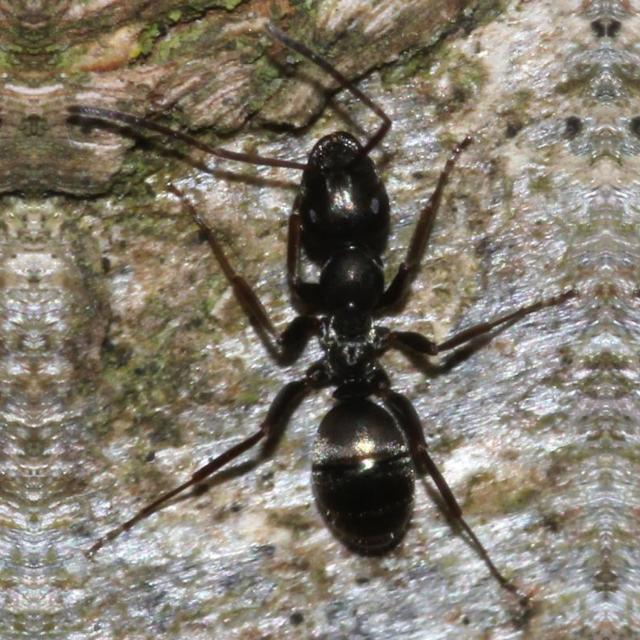Formica: (200, 90, 532, 610)
